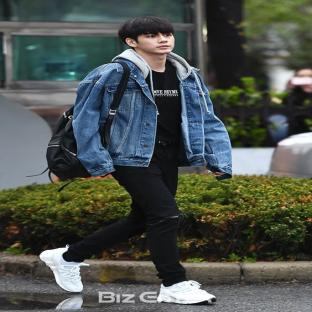Human: (40, 17, 232, 304)
